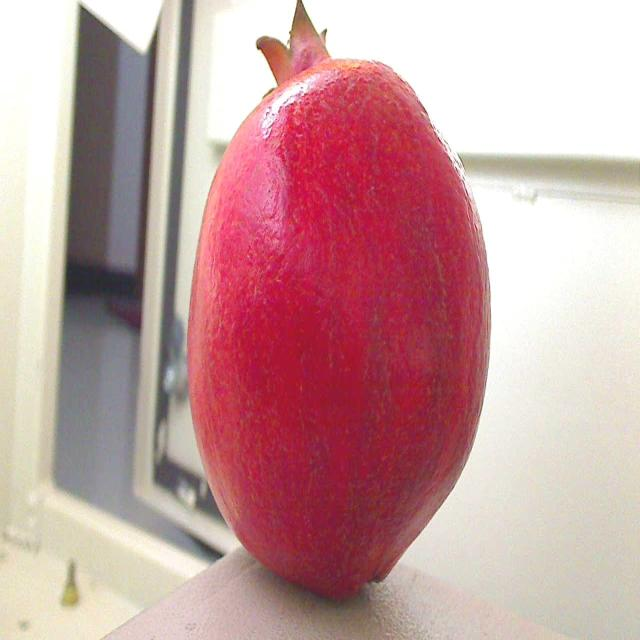pomegranate: (174, 0, 510, 605)
